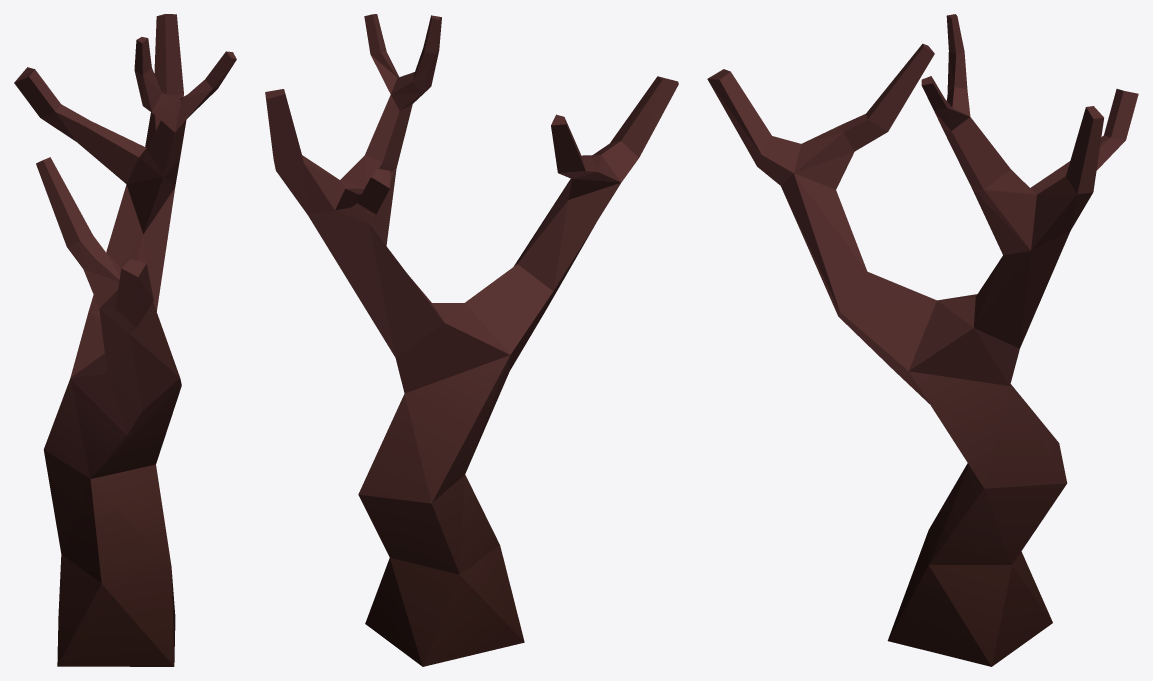
The model's file is DarkBark2.fbx.
3 views of the same model, side by side, from view 1: azimuth 30°, elevation 25°; view 2: azimuth 150°, elevation 25°; view 3: azimuth 270°, elevation 25° (orthographic). The views are drawn at different scales.
Parts seen in each view (by area): view 1: DarkBark2; view 2: DarkBark2; view 3: DarkBark2.
Boxes of the visible parts, <box> form: DarkBark2: <box>14,14,236,666</box>; DarkBark2: <box>265,14,678,666</box>; DarkBark2: <box>707,14,1138,666</box>.
Size of the model in its own units: 150 by 371 by 232.
